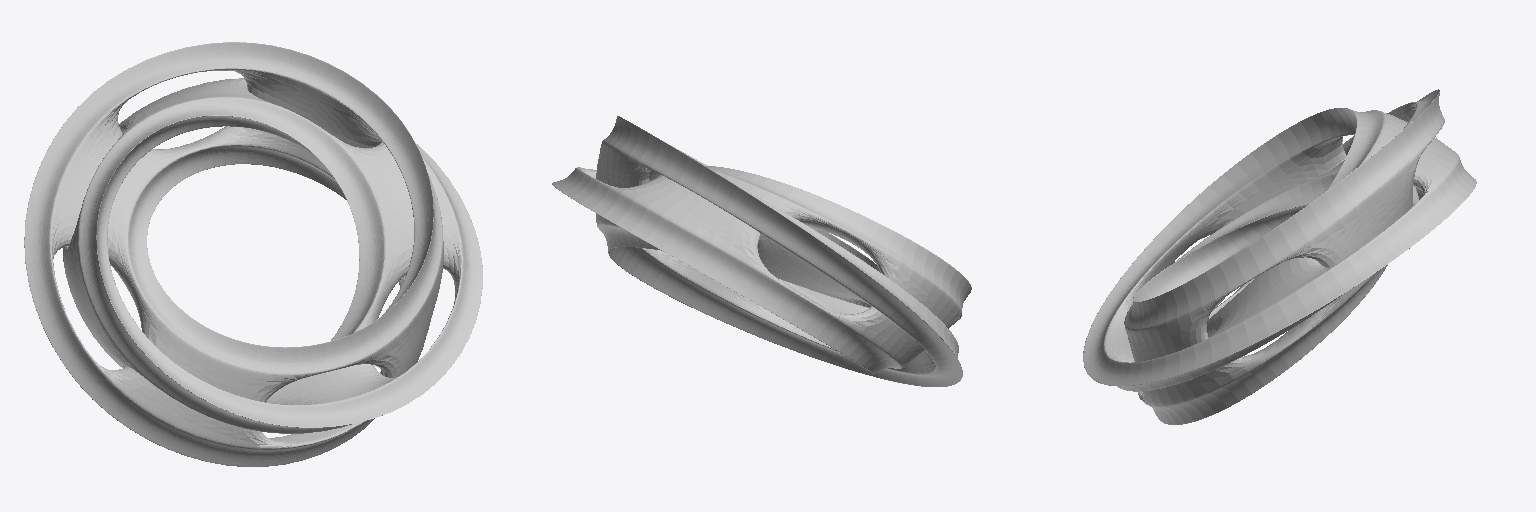
The model's file is mobiousBand.obj.
3 renders of one model, left to right at view 1: azimuth 30°, elevation 25°; view 2: azimuth 150°, elevation 25°; view 3: azimuth 270°, elevation 25°, orthographic.
Visible parts, largest first — view 1: Cilindro; view 2: Cilindro; view 3: Cilindro.
Part boxes in pixels (x1,y1,x2,y2): Cilindro: (24, 42, 482, 466); Cilindro: (552, 116, 971, 386); Cilindro: (1083, 89, 1476, 424).
Size of the model in its own units: 4.71 by 3.53 by 4.06.